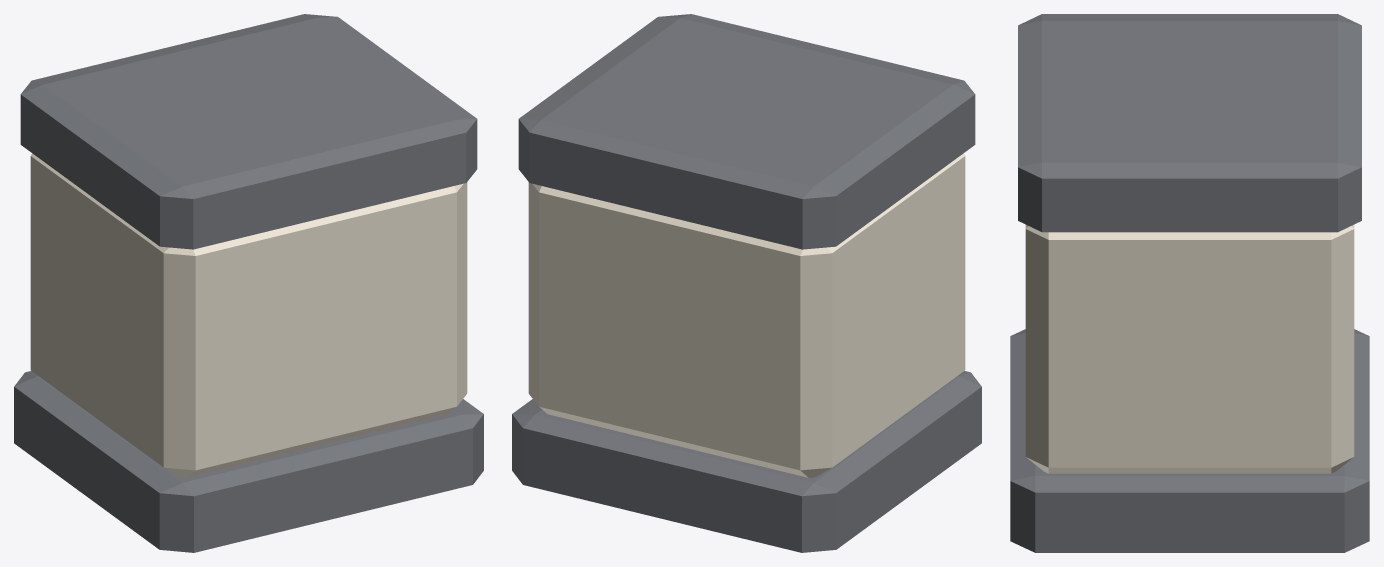
Rendered from b14_ibc_tote_with_valve.glb.
The picture shows the model from 3 angles, left to right: view 1: azimuth 30°, elevation 25°; view 2: azimuth 150°, elevation 25°; view 3: azimuth 270°, elevation 25°; orthographic projection. The views are drawn at different scales.
Visible parts, largest first — view 1: b14_ibc_tote_with_valve; view 2: b14_ibc_tote_with_valve; view 3: b14_ibc_tote_with_valve.
Boxes of the visible parts, x1,y1,x2,y2 form: b14_ibc_tote_with_valve: (14,14,483,552); b14_ibc_tote_with_valve: (512,14,981,552); b14_ibc_tote_with_valve: (1010,14,1369,552).
Bounding box in the file's own units: 1.2 × 1.27 × 1.08.
